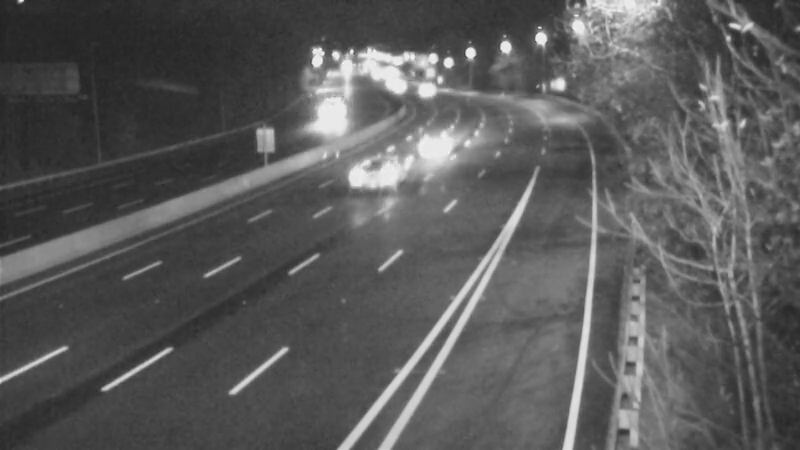vehicle: (342, 132, 422, 212), (376, 61, 426, 111), (401, 67, 451, 117), (405, 119, 455, 169), (302, 92, 352, 142)
